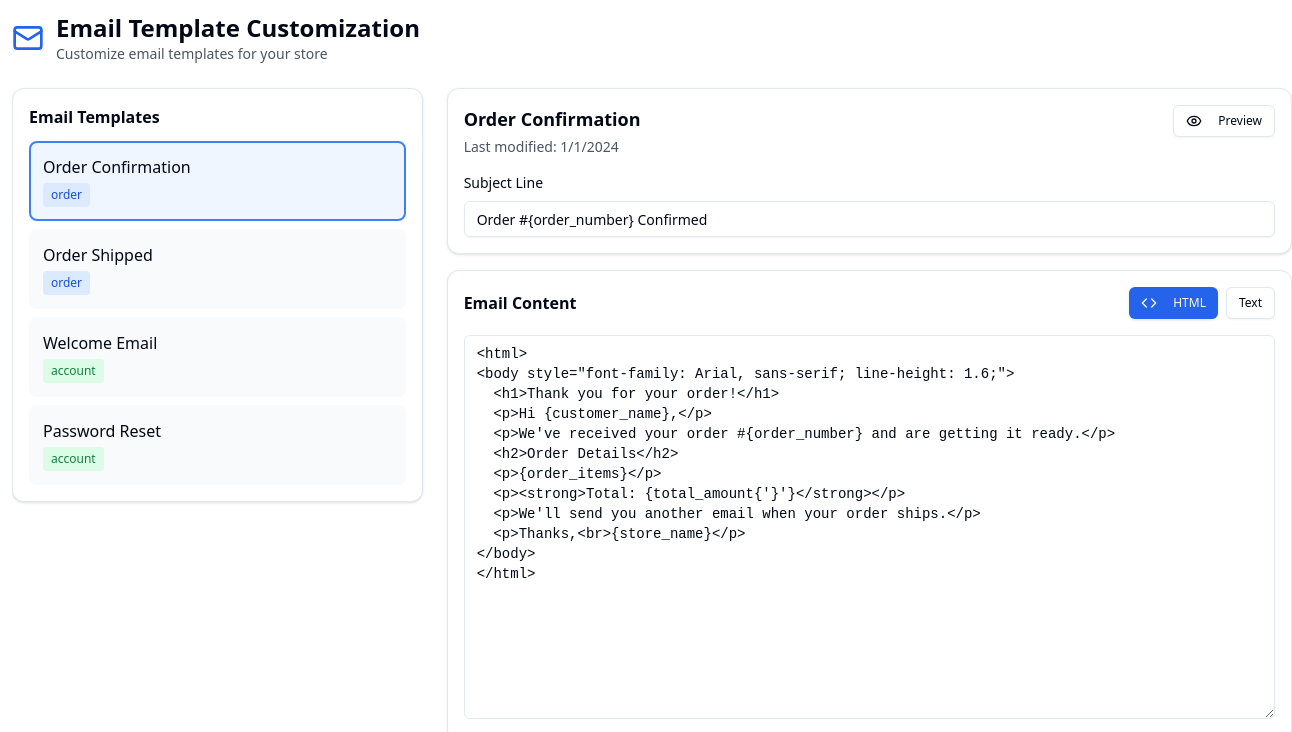
EmailTemplateCustomization › switches to text editor when text mode is selected
What coordinates should you click on to do the following:
click the button with test id "text-mode-btn"
I would click on:
 (1250, 303)
Its box is x1=1226 y1=287 x2=1275 y2=319.
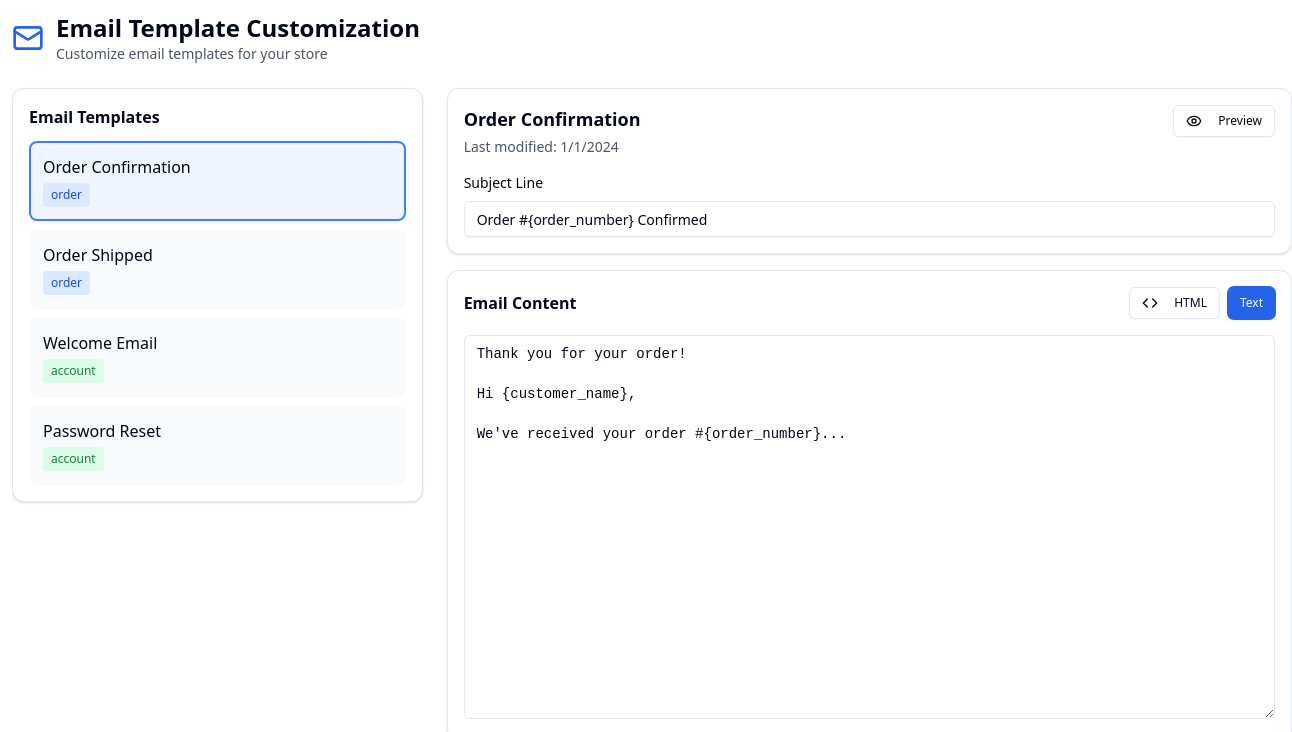
Check: the text box with test id "text-editor" is shown, box x1=464 y1=335 x2=1275 y2=719
